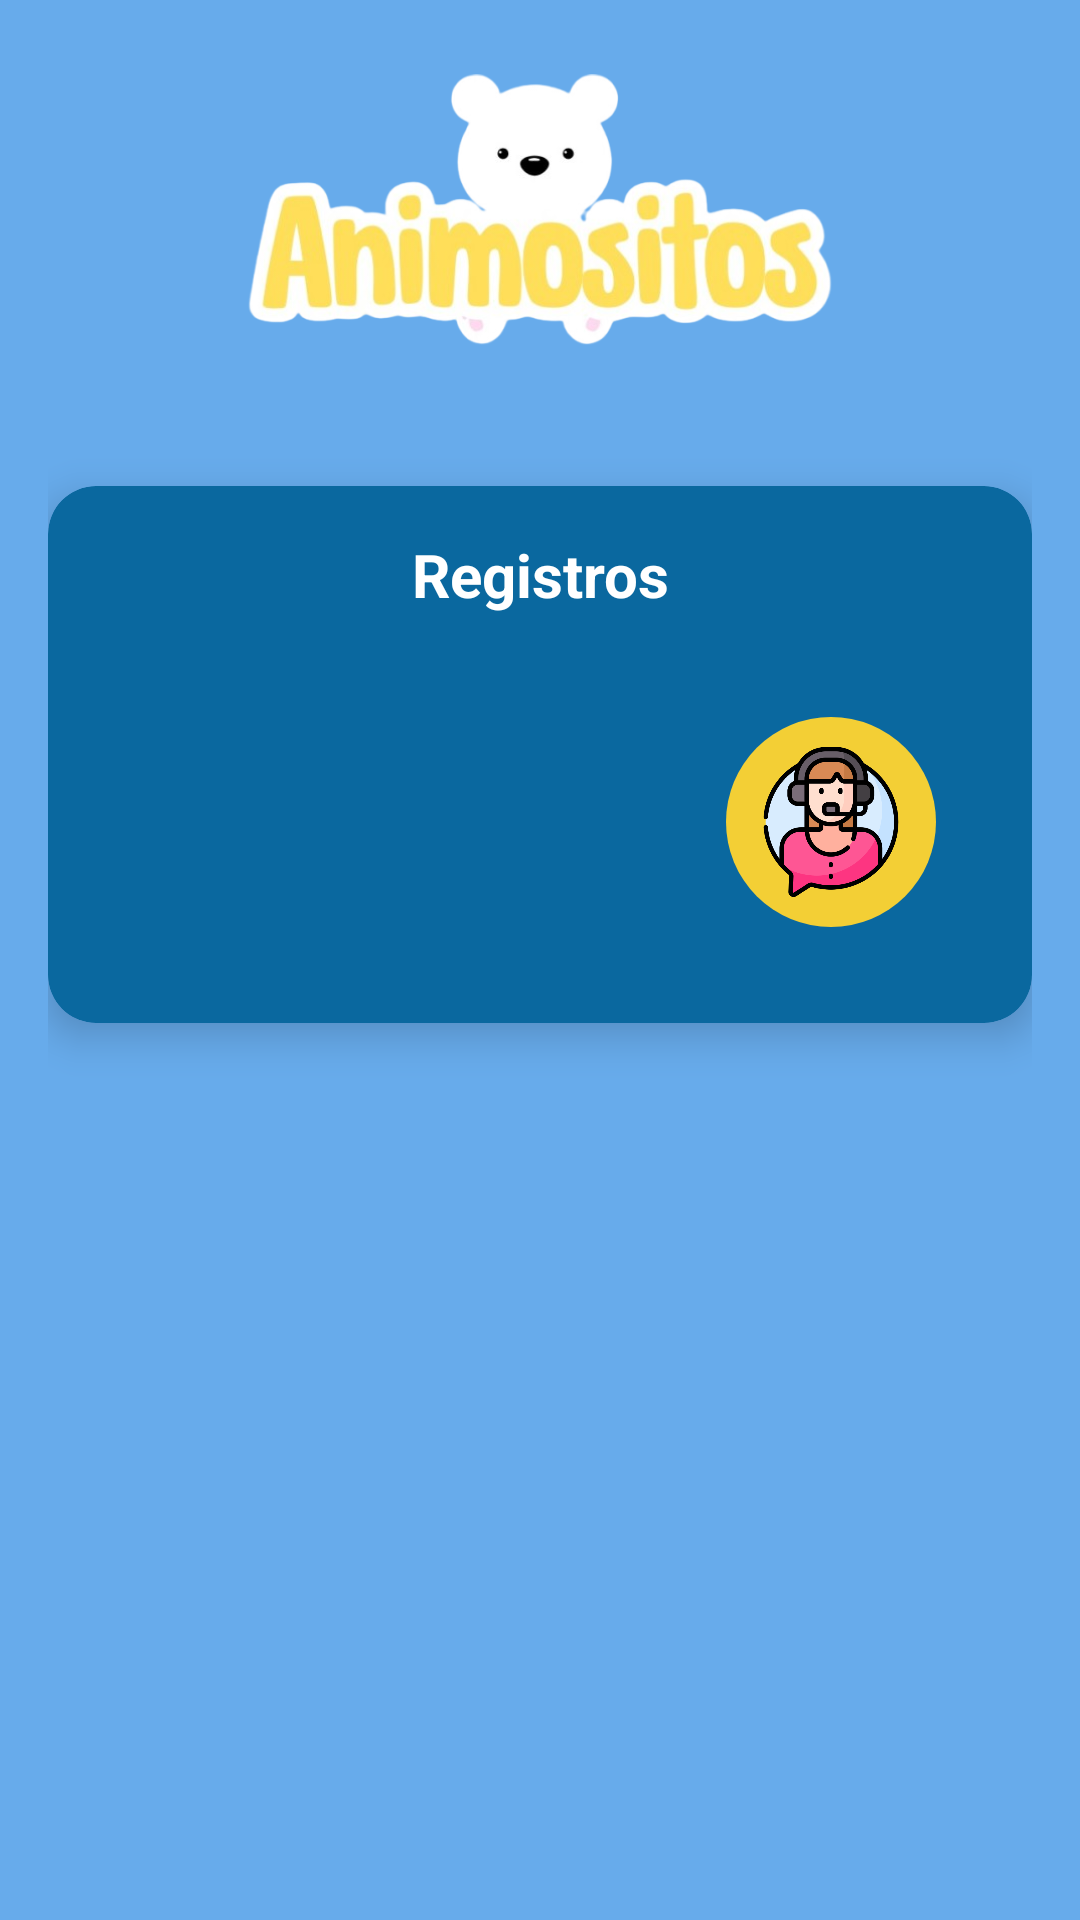

Locate icon controls on the screen. Image size 1080x1920, boxes as [x1=x1, y1=y1, x2=x2, y2=y2].
Icono de usuario: [x1=726, y1=717, x2=936, y2=927]
